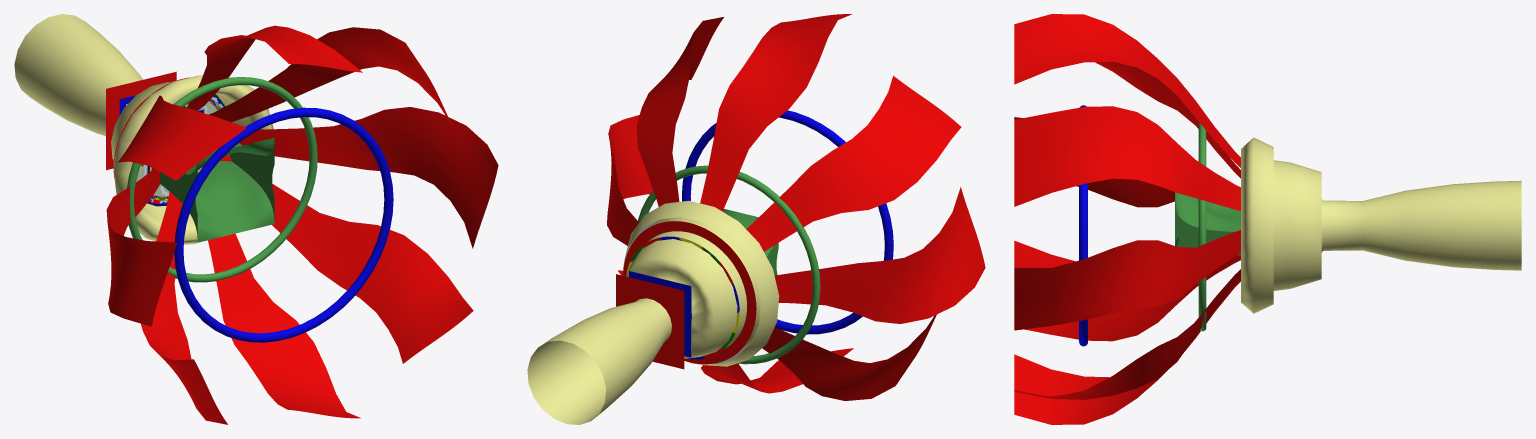
The model's file is ribbon20190712.fbx.
3 renders of one model, left to right at view 1: azimuth 30°, elevation 25°; view 2: azimuth 150°, elevation 25°; view 3: azimuth 270°, elevation 25°, orthographic. The views are drawn at different scales.
Visible parts, largest first — view 1: revolvedSurface1, pPlane7, pPlane8, pPlane6, group10, pasted__pTorus1, pPlane9, pPlane4, pPlane3, pPlane5, pPlane2, pTorus1 (+2 smaller); view 2: revolvedSurface1, pPlane3, pPlane4, pPlane2, pPlane9, pPlane5, pPlane8, loftedSurface2, planarTrimmedSurface1, pTorus1, pasted__pTorus1, pPlane6 (+3 smaller); view 3: revolvedSurface1, pPlane9, pPlane8, pPlane2, pPlane6, pPlane5, pPlane7, group10, pPlane3, pPlane4, pTorus1, pasted__pTorus1.
Part boxes in pixels (x1,y1,x2,y2): revolvedSurface1: (14,14,273,244); pPlane7: (220,155,473,363); pPlane8: (239,107,498,248); pPlane6: (208,233,360,418); group10: (152,138,274,242); pasted__pTorus1: (174,107,393,342); pPlane9: (209,27,454,129); pPlane4: (106,169,176,326); pPlane3: (118,95,246,180); pPlane5: (141,192,227,424); pPlane2: (187,25,362,110); pTorus1: (126,77,317,282); revolvedSurface1: (527,200,779,424); pPlane3: (746,75,961,251); pPlane4: (774,187,985,323); pPlane2: (700,14,852,211); pPlane9: (636,17,723,206); pPlane5: (762,314,936,400); pPlane8: (607,115,652,245); loftedSurface2: (623,221,756,364); planarTrimmedSurface1: (616,274,684,369); pTorus1: (638,165,820,364); pasted__pTorus1: (682,110,893,334); pPlane6: (701,348,853,393); revolvedSurface1: (1241,137,1521,313); pPlane9: (1014,106,1240,210); pPlane8: (1014,230,1240,330); pPlane2: (1014,14,1240,167); pPlane6: (1014,278,1240,424); pPlane5: (1014,240,1240,341); pPlane7: (1014,269,1240,399); group10: (1175,192,1240,255); pPlane3: (1095,61,1240,178); pPlane4: (1014,117,1174,207); pTorus1: (1198,122,1206,331); pasted__pTorus1: (1079,105,1087,346).
Bounding box in the file's own units: 103 × 105 × 130.
